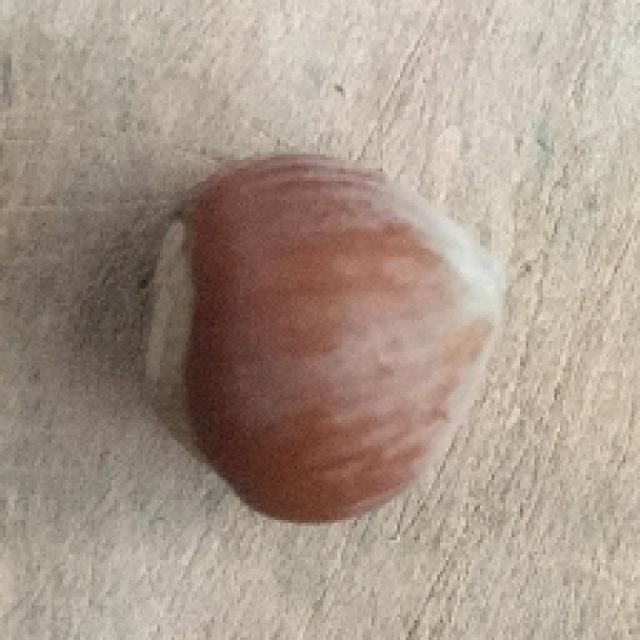QualityHazelnut: (144, 150, 507, 522)
